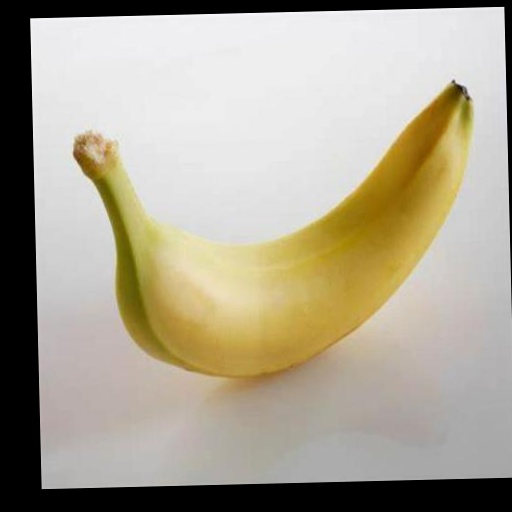fruit: (73, 83, 472, 377)
